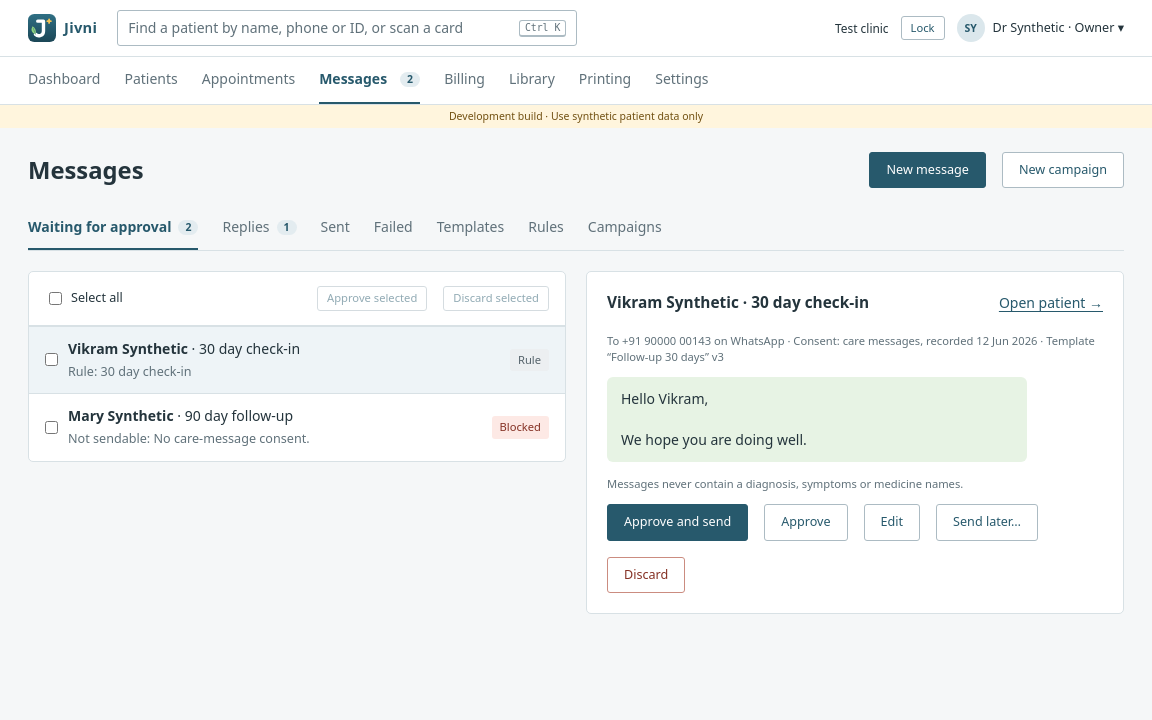
Scenario: messages › shows the queue with a preview, and hands an approved message to WhatsApp
This screenshot has width=1152, height=720.
Check: the text "Rule: 30 day check-in" is shown, box 68,363 -> 192,381
Check: the text "Not sendable: No care-message consent." is shown, box 68,430 -> 310,449
Click the button "Approve and send" at (678, 522), box 607,504 -> 748,541
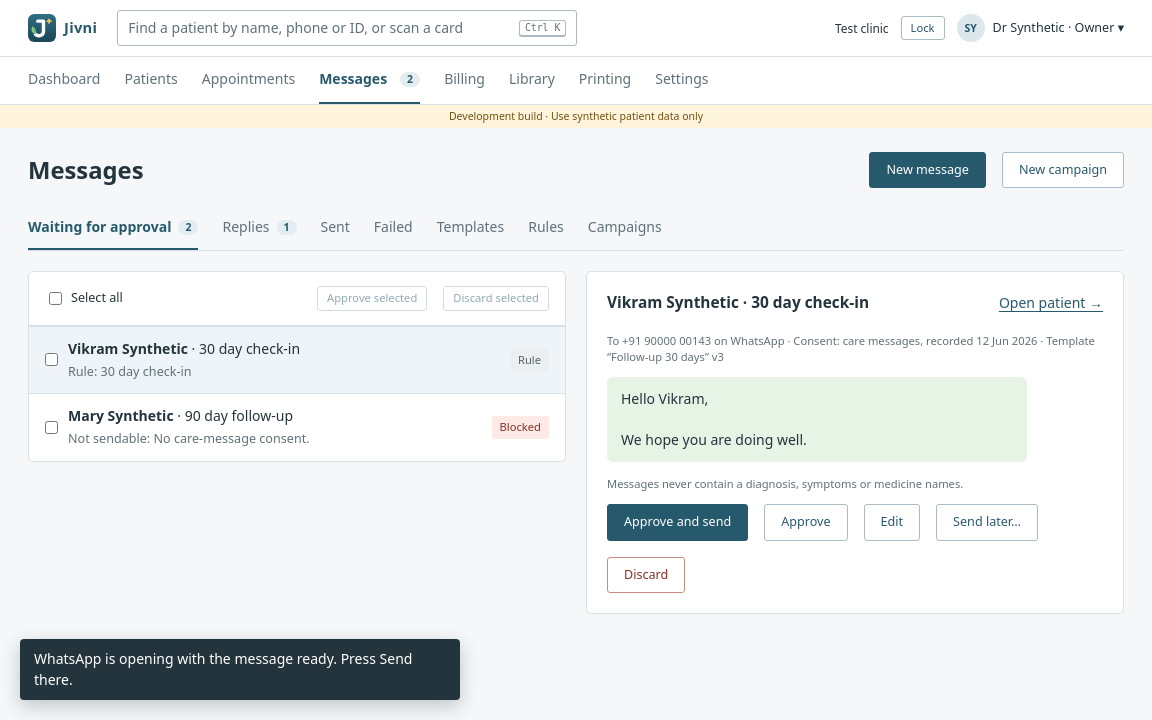
Check: the text "WhatsApp is opening with the message ready. Press Send there." is shown, box 34,649 -> 446,690
A message nobody has agreed to receive cannot be approved or sent.
Click the button "Mary Synthetic" at (275, 427), box 68,406 -> 482,449
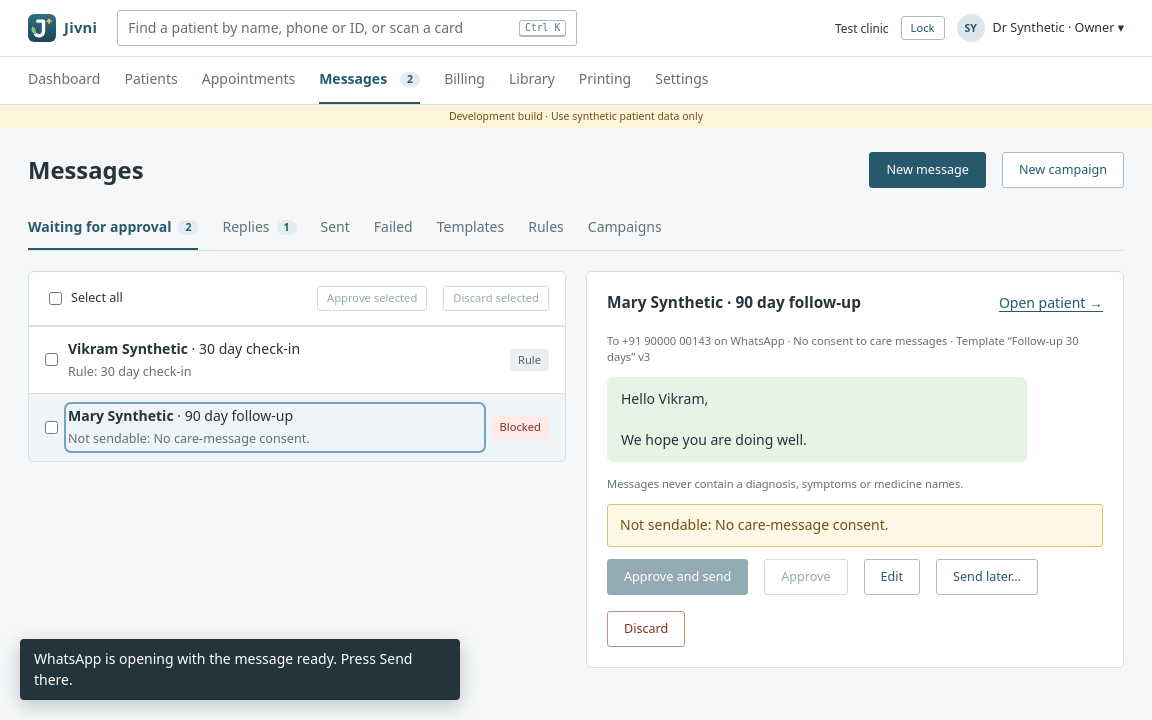
Check: the button "Approve and send" is disabled, box 607,559 -> 748,595
Check: the text "No consent to care messages" is shown, box 784,333 -> 947,348
